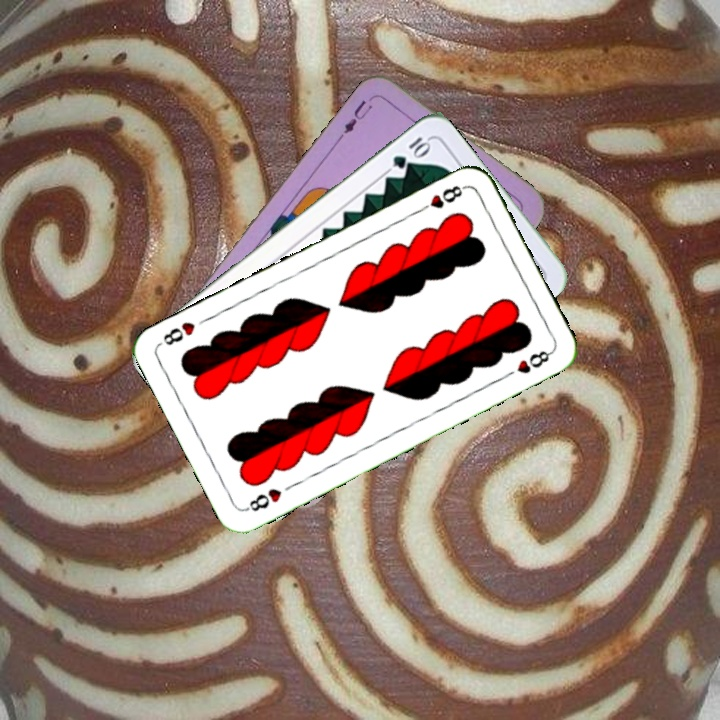EU: (335, 91, 378, 141)
G10: (388, 132, 433, 172)
H8: (414, 181, 469, 216), (241, 484, 285, 514)
